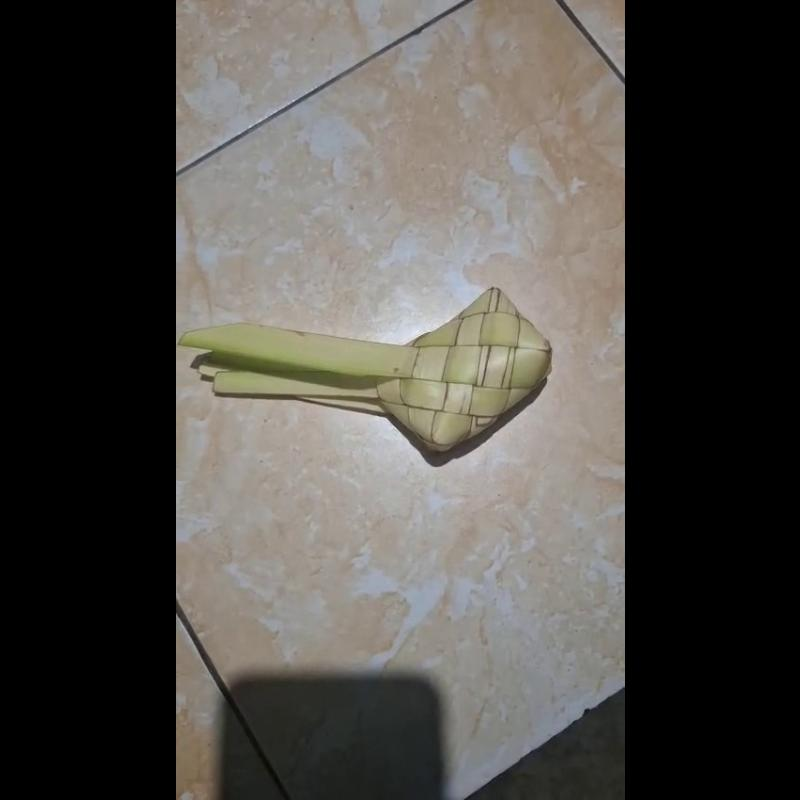Tipat Bantal: (185, 287, 562, 469)
